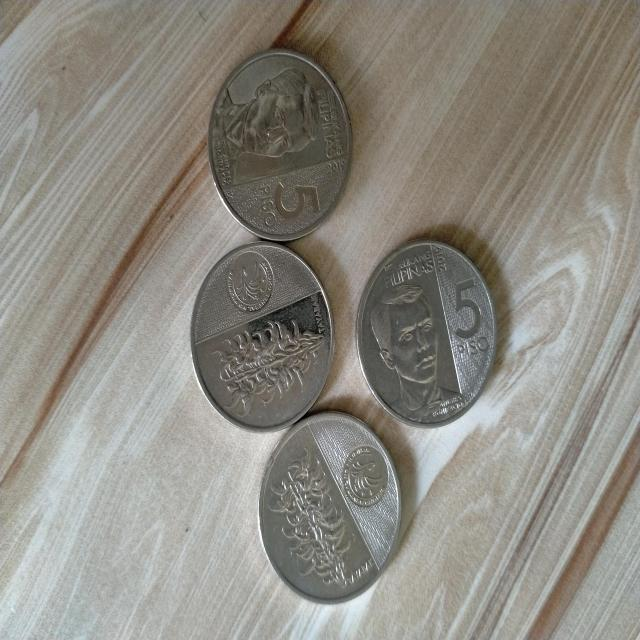5_New_Back: (261, 442, 364, 608), (206, 309, 332, 426)
5_New_Front: (251, 170, 331, 235), (445, 272, 498, 368)
